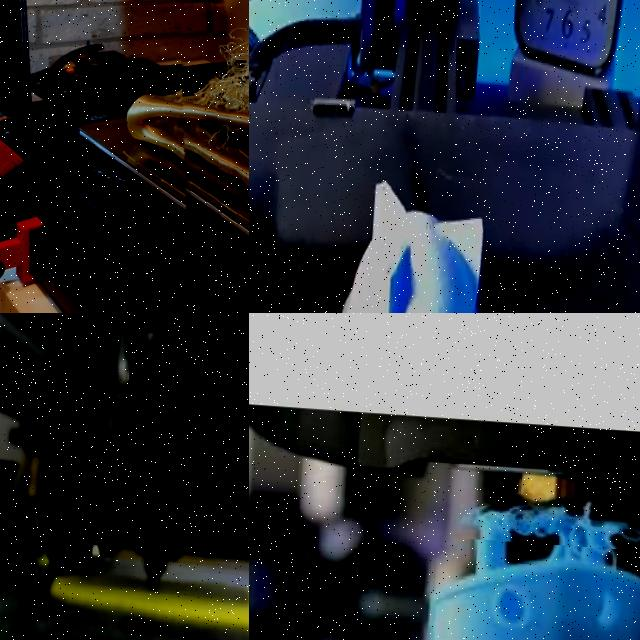spaghetti: (151, 0, 249, 285), (460, 484, 640, 551)
